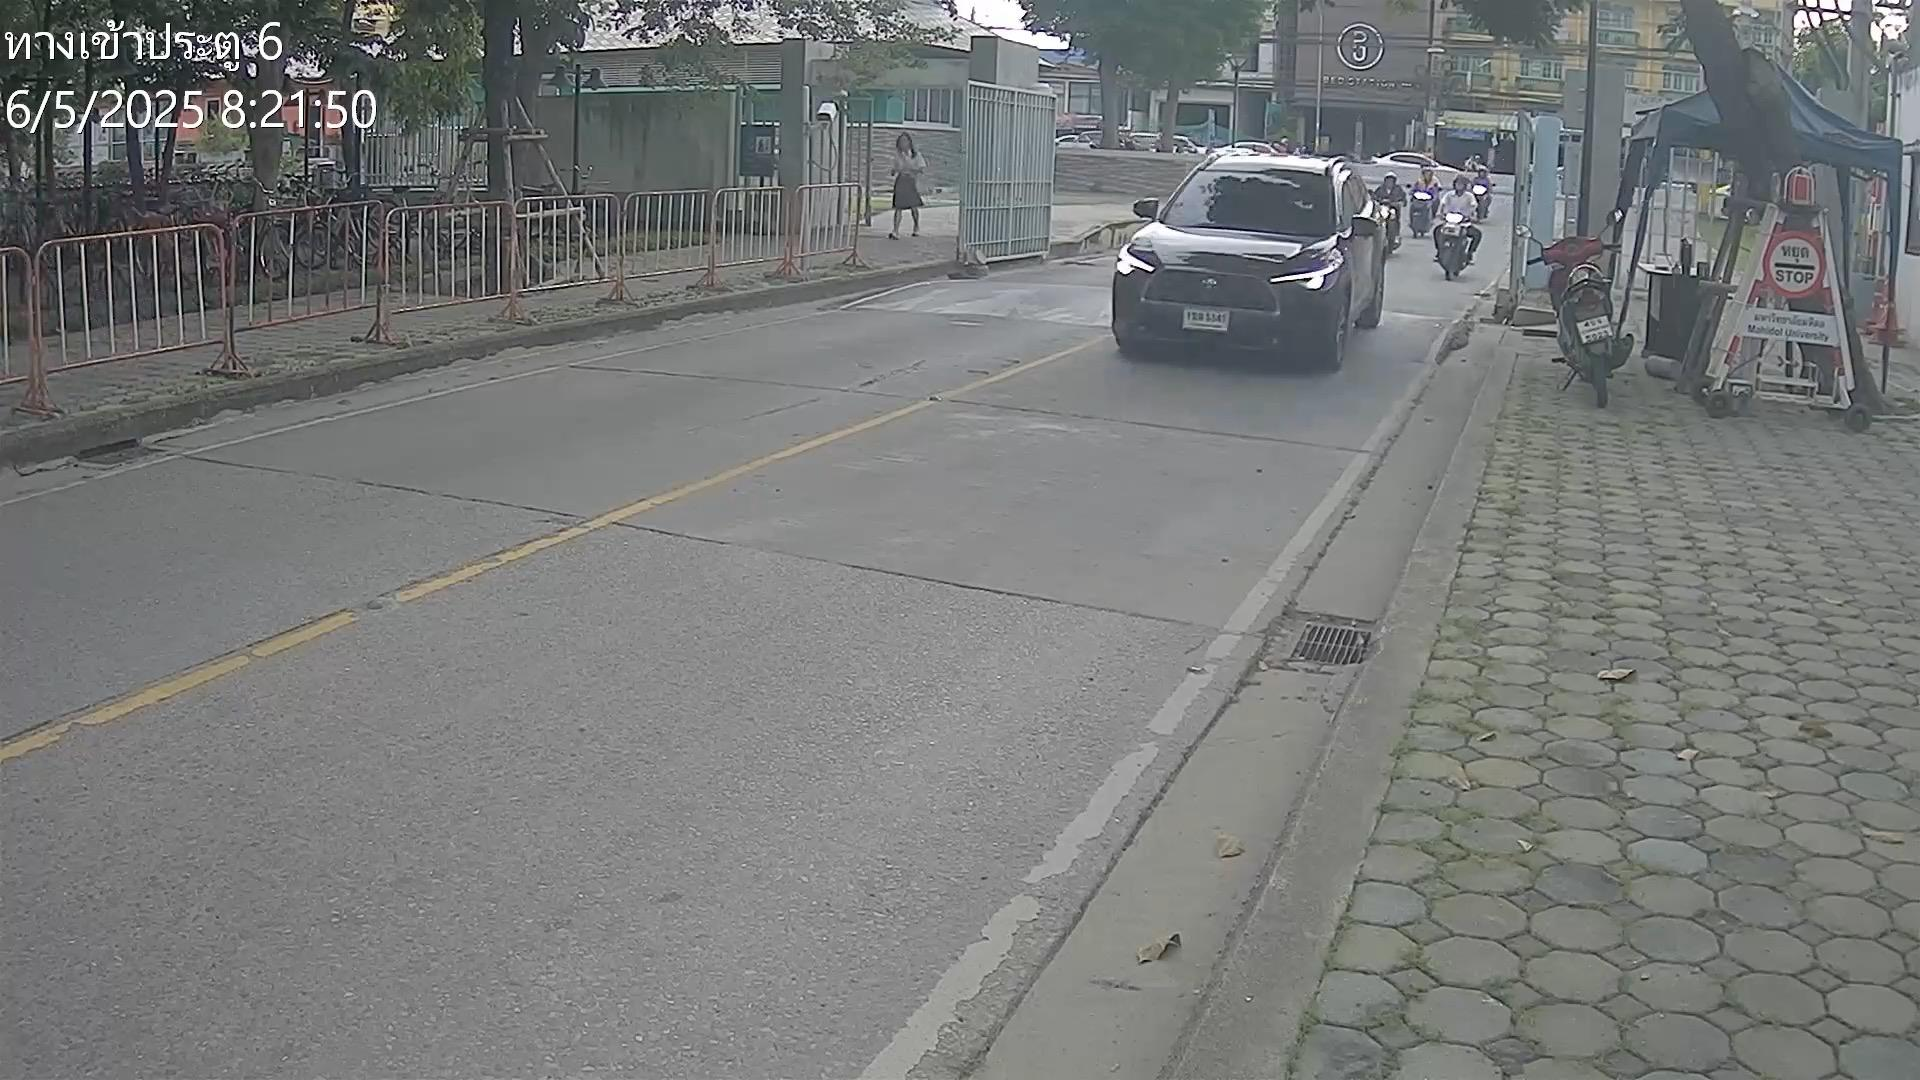With-Helmet: (1452, 173, 1468, 193), (1383, 170, 1398, 186), (1422, 166, 1433, 178)
